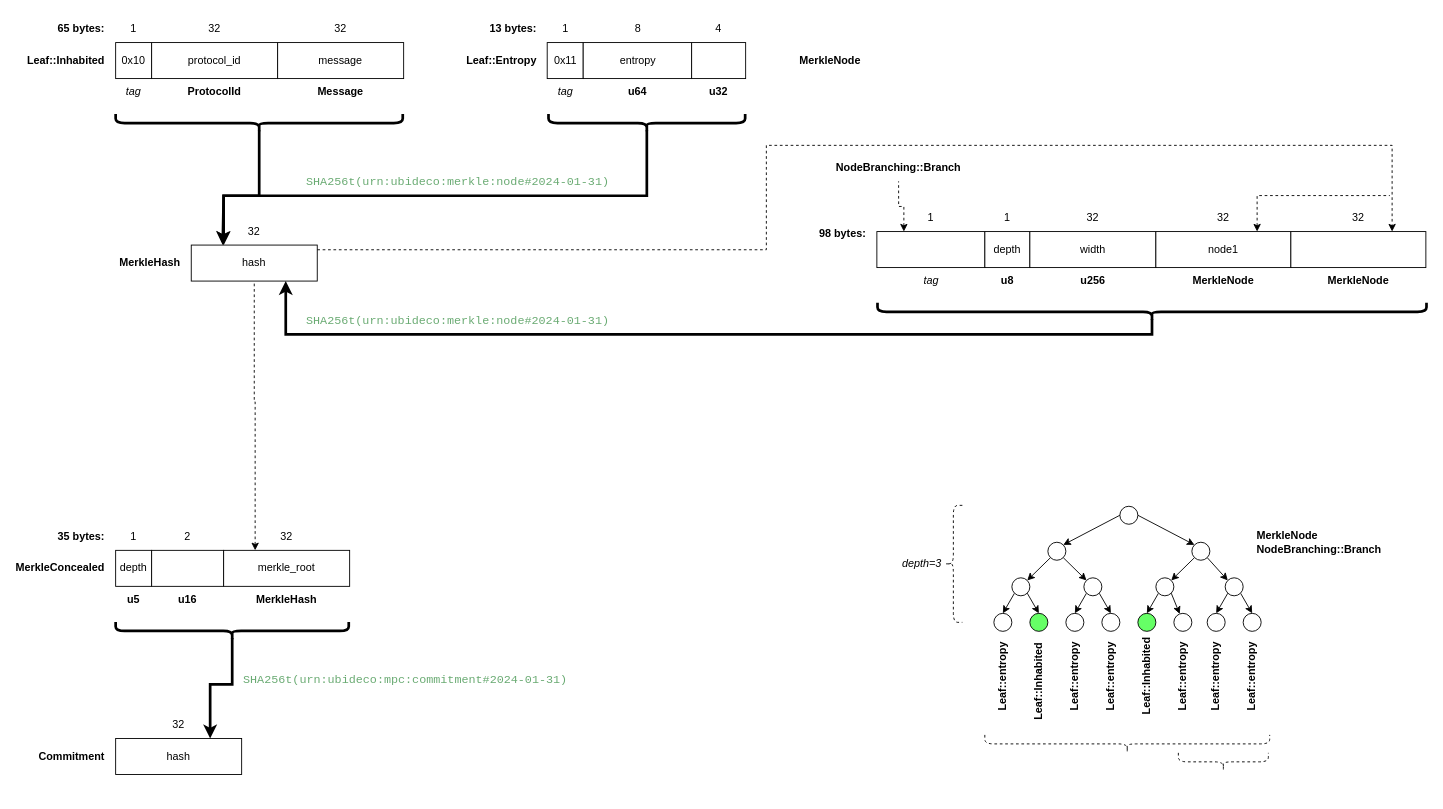
This 1443x809 diagram has some shape labels left out. Each missing label, with the box of its shape:
0x02: (876, 231, 985, 268)
cofactor: (151, 549, 224, 586)
cofactor=3: (1177, 752, 1268, 771)
node2: (1290, 231, 1426, 268)
pos: (691, 42, 746, 79)
width=8 (2^depth): (984, 734, 1270, 753)
